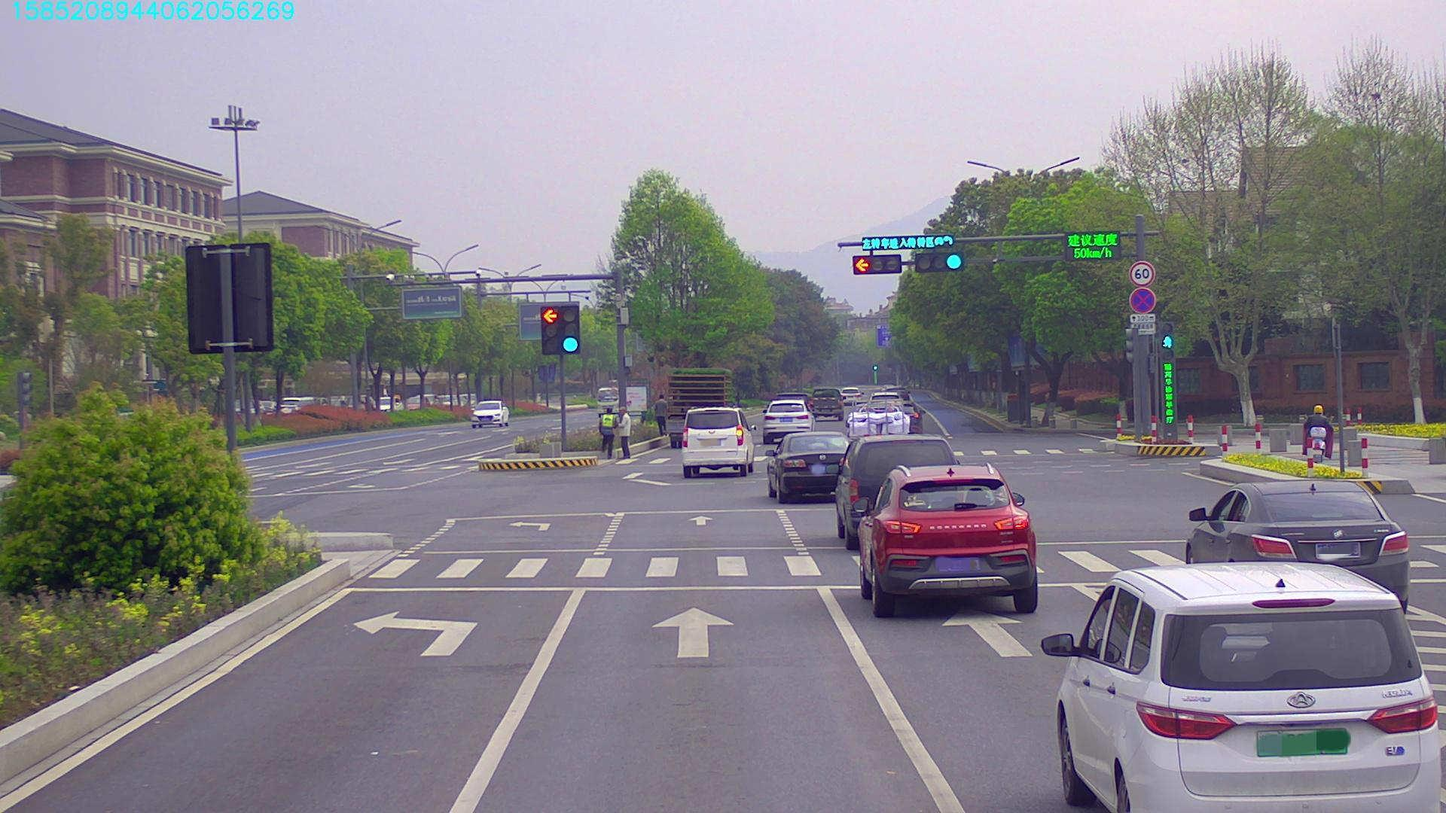green: (915, 253, 962, 270)
red: (849, 255, 905, 278)
wait_on: (859, 236, 961, 251)
